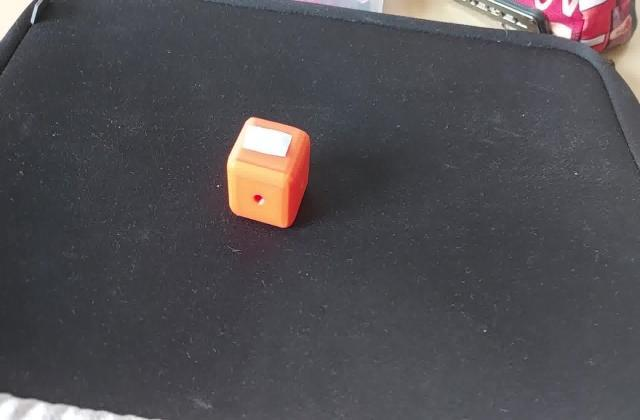cube: (219, 113, 312, 235)
white: (248, 128, 298, 162)
